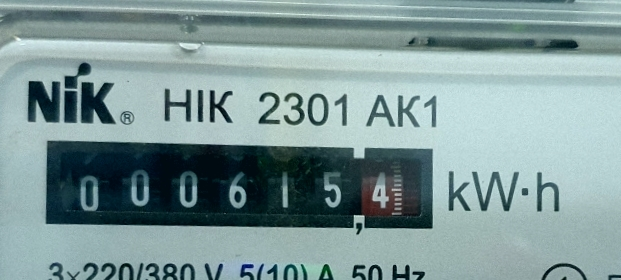0: (175, 166, 201, 210), (75, 170, 102, 212), (127, 166, 152, 206)
1: (278, 167, 292, 209)
4: (369, 168, 390, 209)
5: (320, 167, 344, 209)
6: (224, 168, 250, 209)
screen: (29, 120, 448, 250)
